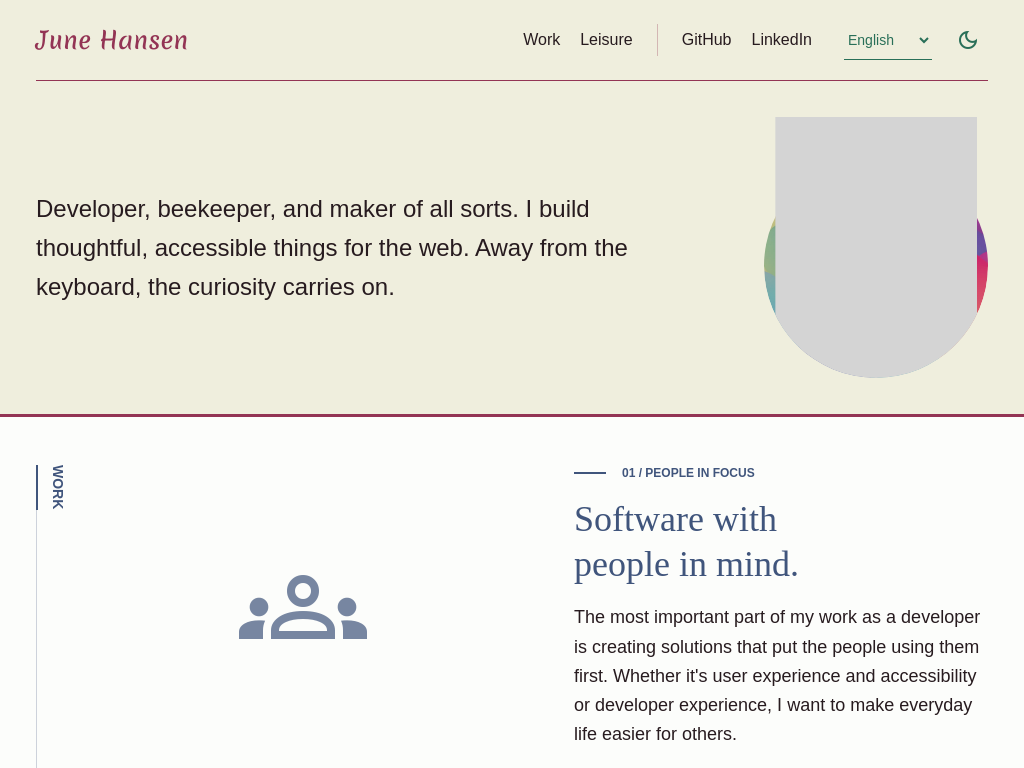
Test case: Workshop page › switches all page content, image alternatives, and document language to Norwegian
Select "Norsk" in the dropdown named "locale" at coordinates (888, 40), box 844,20 -> 932,60
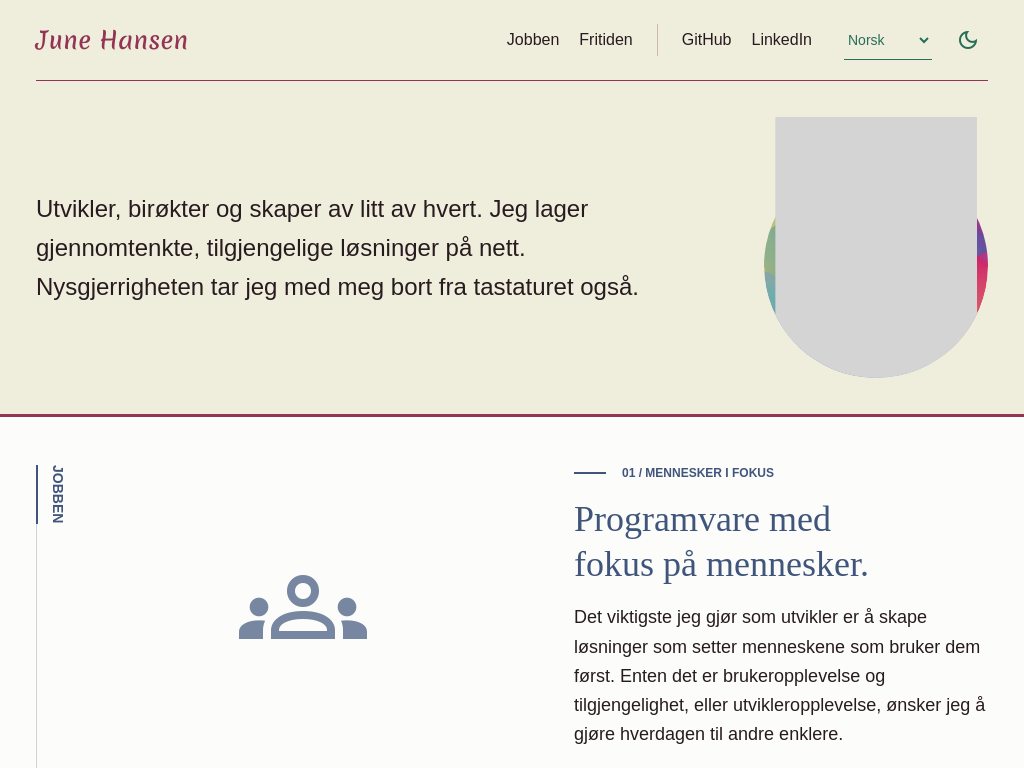
Expected: the heading with id "work-title" reads "Jobben", 50,465 -> 66,524
Expected: the element with id "work-focus" shows "brukeropplevelse", 574,607 -> 985,744
Expected: the element with id "work-focus" shows "utvikleropplevelse", 574,607 -> 985,744
